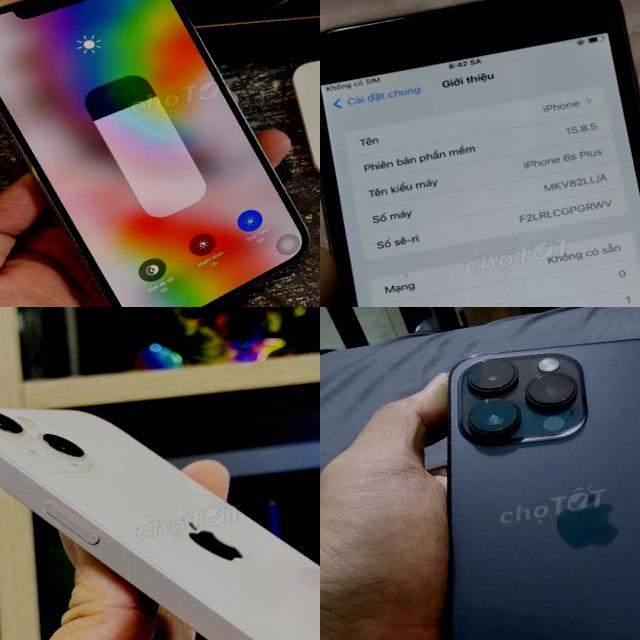gen_12_13: (0, 316, 320, 640), (0, 0, 320, 307)
gen_14: (373, 307, 640, 640)
gen_6: (320, 0, 640, 307)
